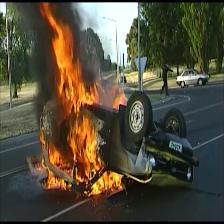fire: (39, 3, 127, 196)
